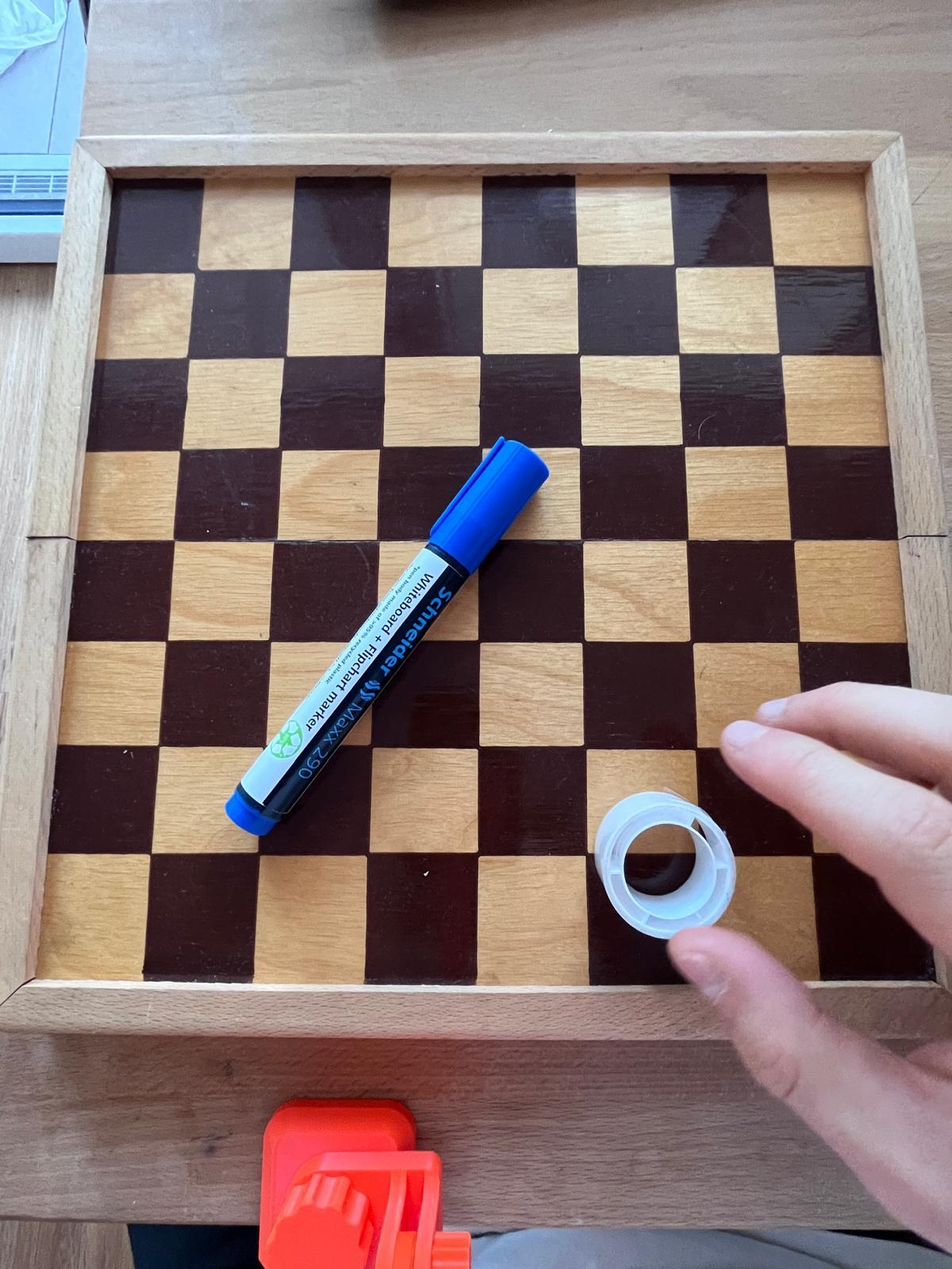marker: (217, 431, 552, 839)
tape: (592, 784, 735, 944)
